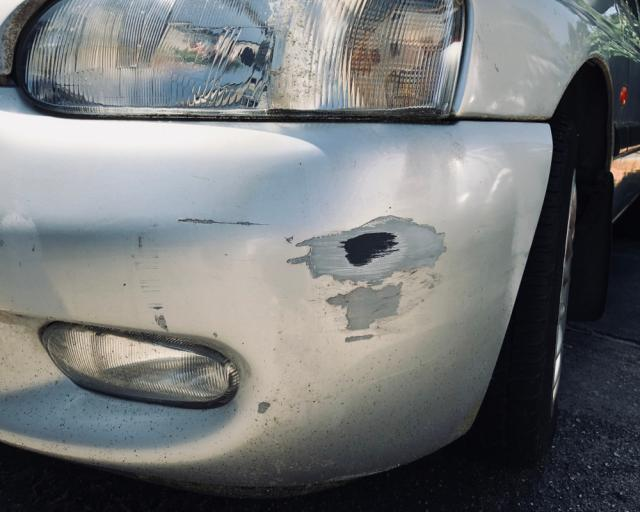scratch: (280, 210, 452, 349), (133, 216, 265, 335)
